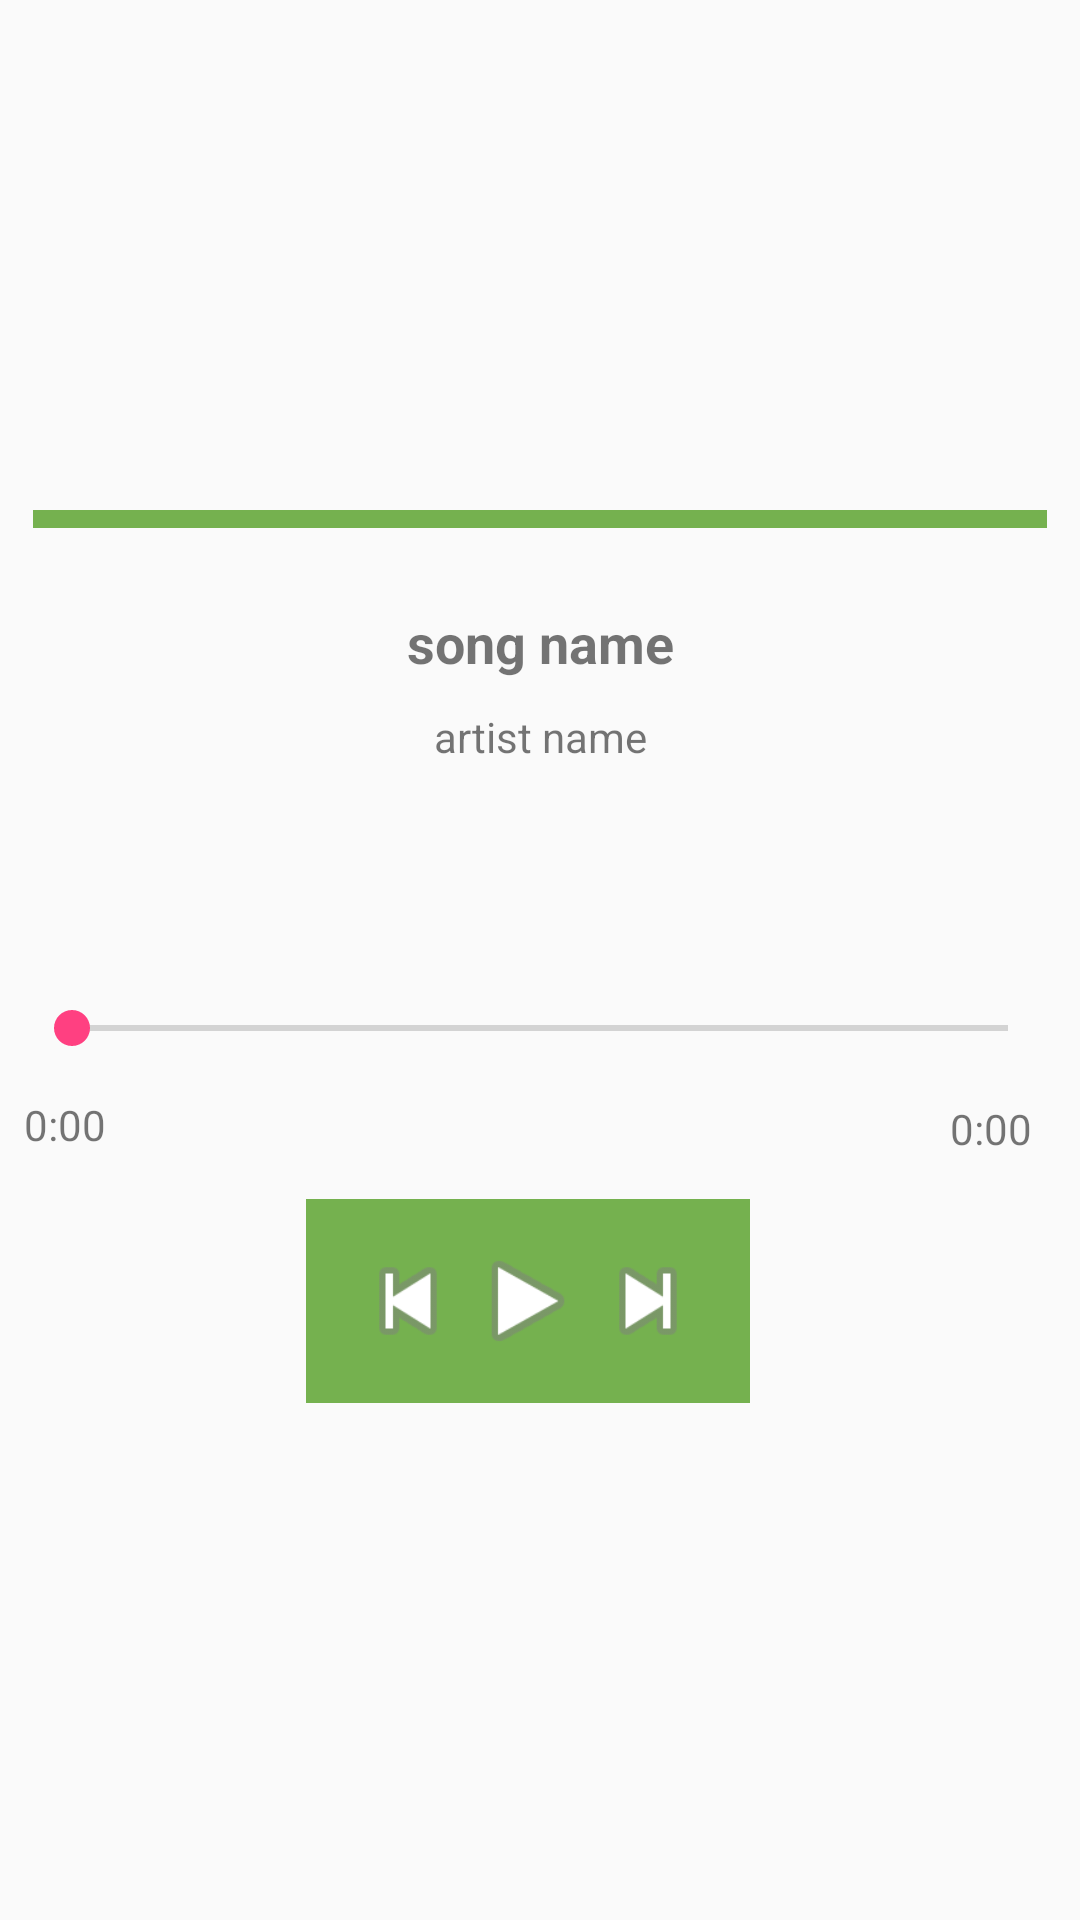

Screen size 1080px x 1920px. Icon name, then its box in pixels as (x1, y1, x2, y2):
next: (620, 1268, 676, 1334)
play: (492, 1262, 564, 1340)
previous: (380, 1268, 436, 1334)
